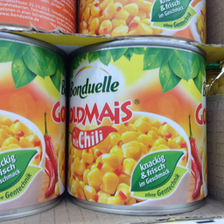corn: (67, 39, 210, 216), (1, 31, 71, 218), (78, 1, 208, 42)
